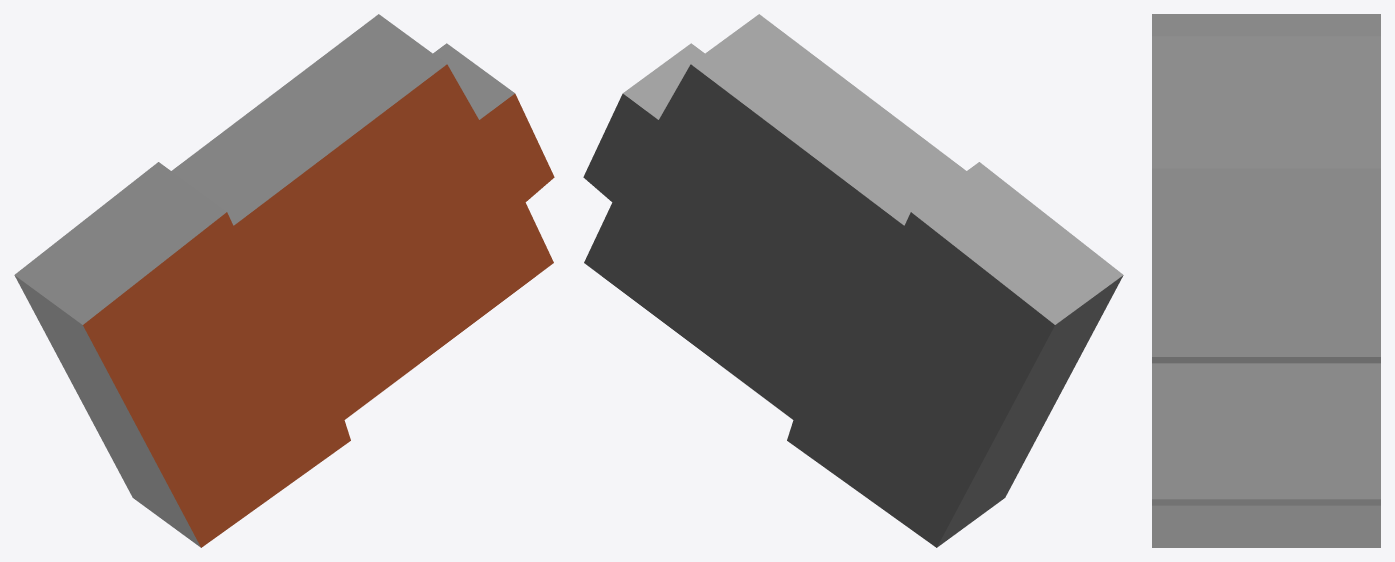
Rendered from construction_6504_assumed_A_Casa_h6m.obj.
3 renders of one model, left to right at view 1: azimuth 30°, elevation 25°; view 2: azimuth 150°, elevation 25°; view 3: azimuth 270°, elevation 25°, orthographic. The views are drawn at different scales.
Parts seen in each view (by area): view 1: construction_6504_assumed_A_Casa; view 2: construction_6504_assumed_A_Casa; view 3: construction_6504_assumed_A_Casa.
Boxes of the visible parts, x1,y1,x2,y2 form: construction_6504_assumed_A_Casa: [14, 14, 554, 547]; construction_6504_assumed_A_Casa: [583, 14, 1123, 547]; construction_6504_assumed_A_Casa: [1152, 14, 1380, 547].
Bounding box in the file's own units: 23.86 × 20.48 × 6.
